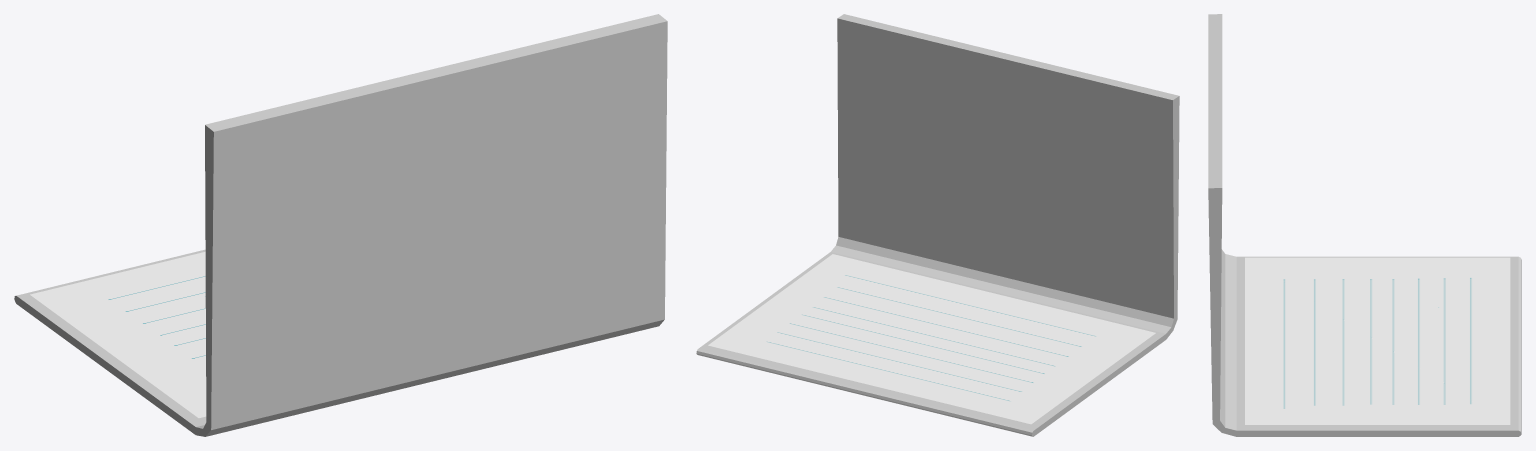
File: notebook.gltf
3 views of the same model, side by side, from view 1: azimuth 30°, elevation 25°; view 2: azimuth 150°, elevation 25°; view 3: azimuth 270°, elevation 25° (orthographic). The views are drawn at different scales.
Parts seen in each view (by area): view 1: notebook, page; view 2: notebook, page; view 3: page, notebook.
Part boxes in pixels (x1,y1,x2,y2): notebook: (14,14,667,436); page: (30,251,206,417); notebook: (696,14,1179,436); page: (708,254,1155,424); page: (1245,257,1510,424); notebook: (1208,14,1521,436).
Bounding box in the file's own units: 22.78 × 15.22 × 17.35.
2 materials, 1 textured.
